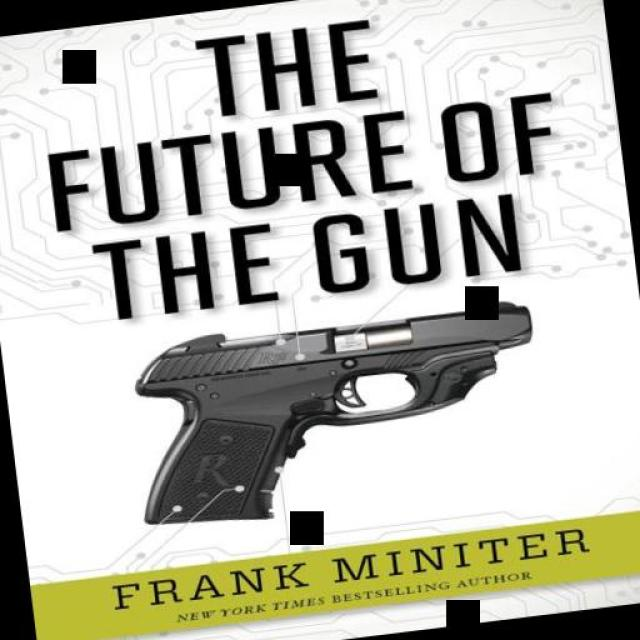gun: (107, 293, 555, 536)
